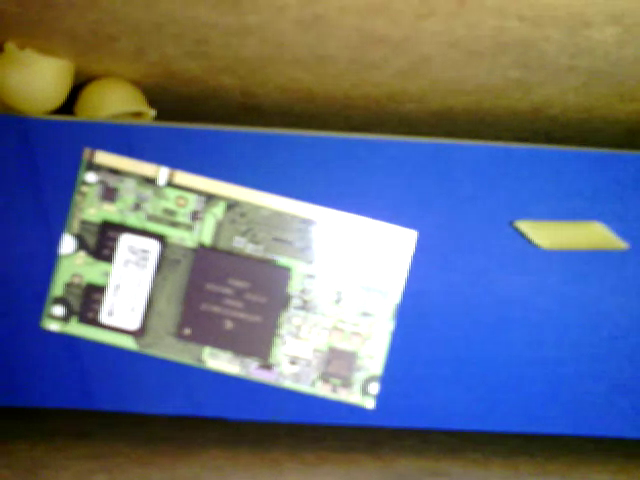penne: (512, 217, 627, 253)
shell: (1, 33, 76, 113), (73, 73, 154, 121)
